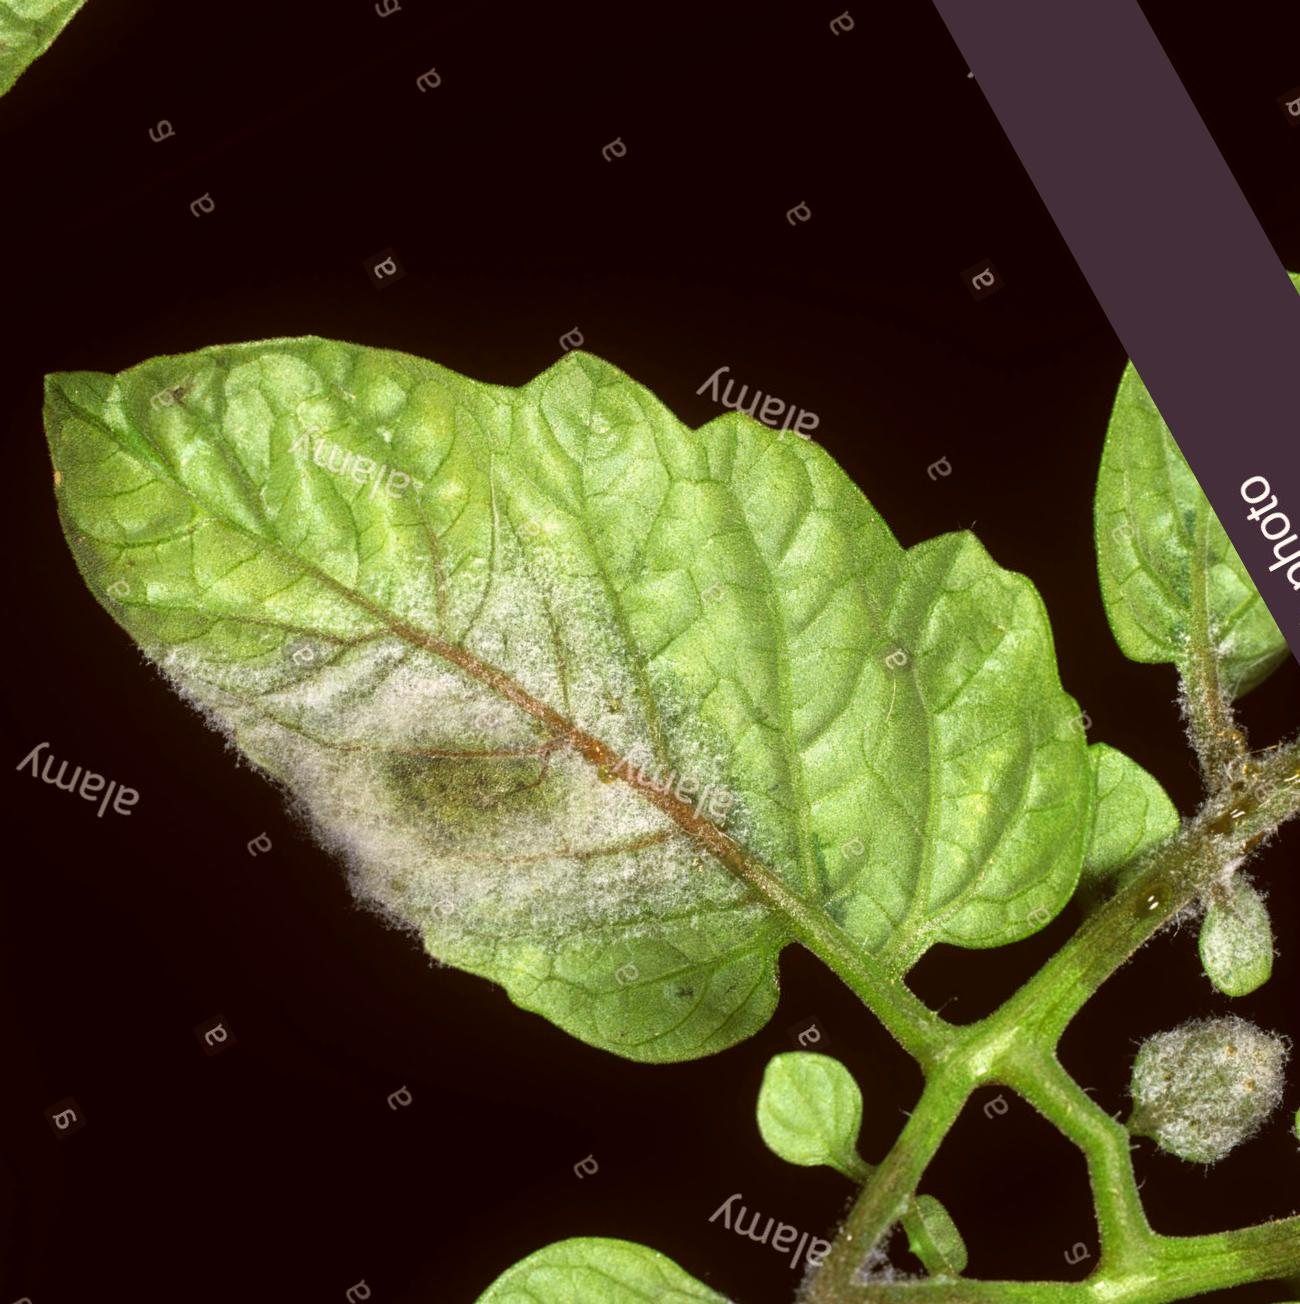Tomato leaf late blight: (0, 0, 1211, 1302)
